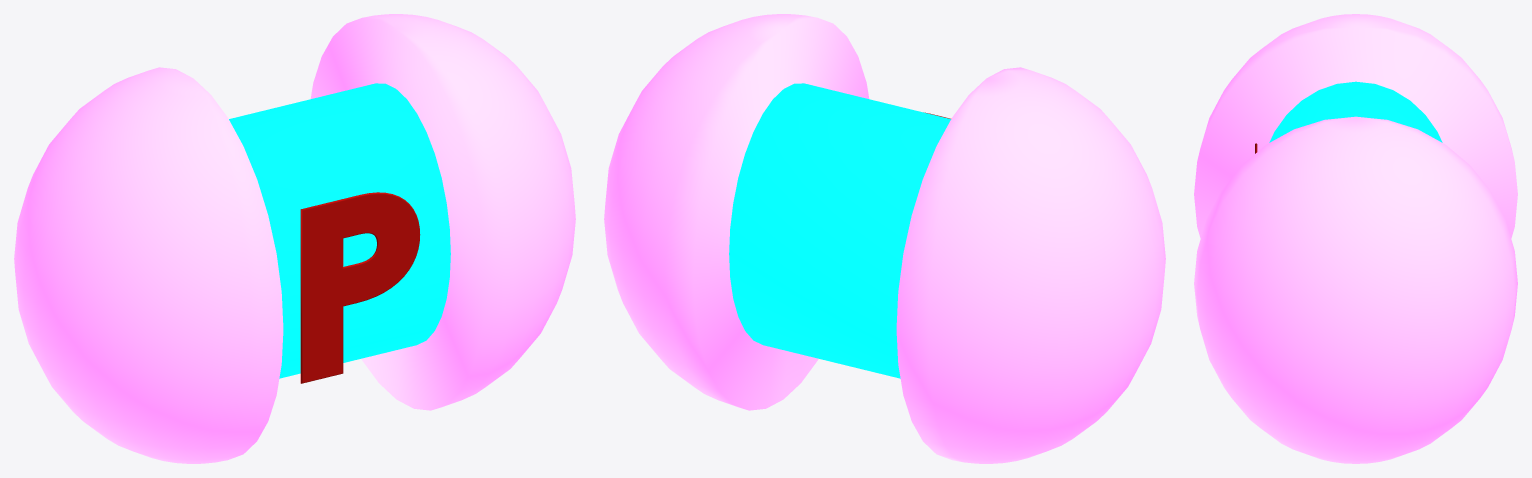
The model's file is Party OJ.fbx.
3 renders of one model, left to right at view 1: azimuth 30°, elevation 25°; view 2: azimuth 150°, elevation 25°; view 3: azimuth 270°, elevation 25°, orthographic. The views are drawn at different scales.
Parts seen in each view (by area): view 1: Cylinder; view 2: Cylinder; view 3: Cylinder.
Boxes of the visible parts, left/top/right/bottom form: Cylinder: left=14, top=14, right=575, bottom=463; Cylinder: left=604, top=14, right=1165, bottom=463; Cylinder: left=1194, top=14, right=1517, bottom=463.
Bounding box in the file's own units: 330 × 227 × 200.
